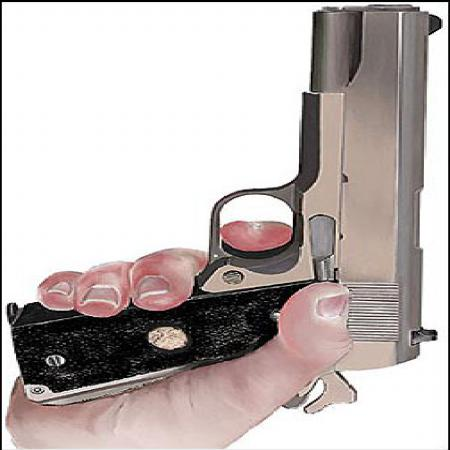Pistol: (13, 4, 446, 414)
